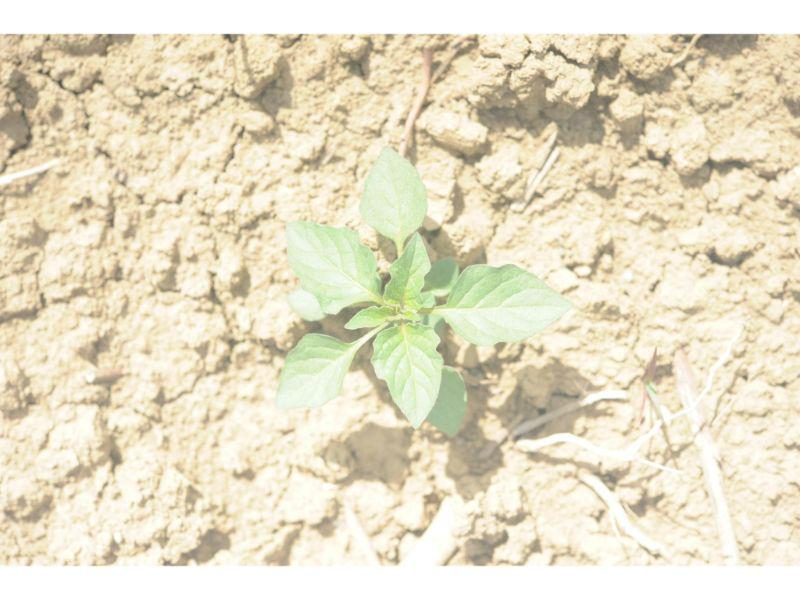nightshade: (275, 146, 571, 440)
